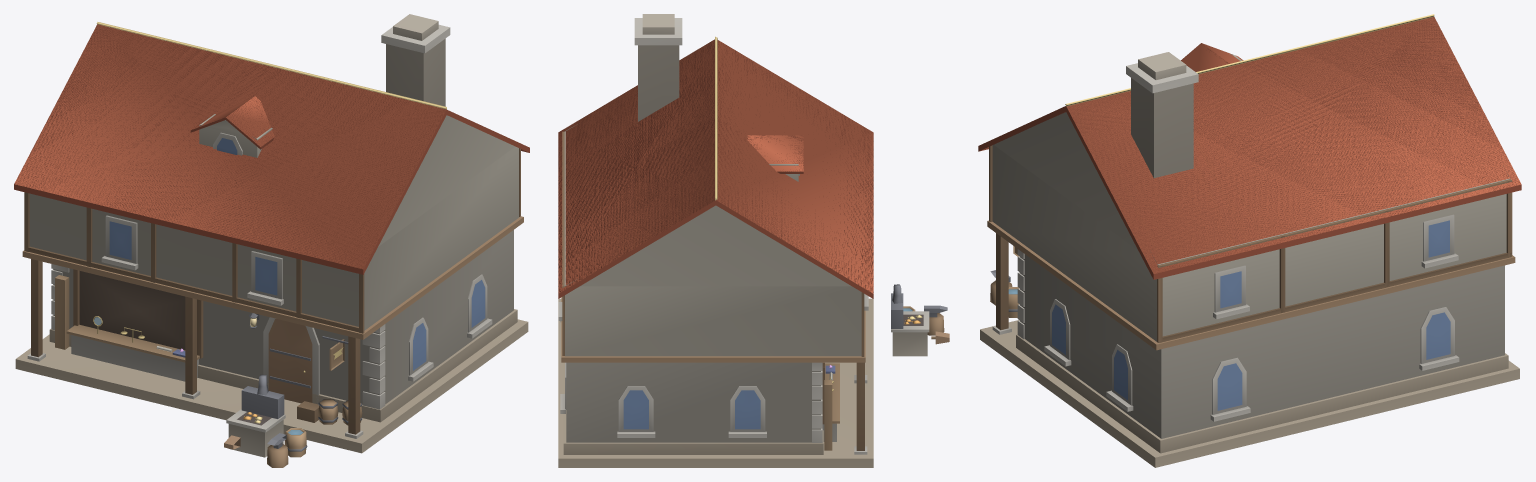
The model's file is smith_lite.glb.
3 renders of one model, left to right at view 1: azimuth 30°, elevation 25°; view 2: azimuth 150°, elevation 25°; view 3: azimuth 270°, elevation 25°, orthographic. The views are drawn at different scales.
Parts seen in each view (by area): view 1: Smith_stone, Smith_roof, Smith_props; view 2: Smith_stone, Smith_roof, Smith_props; view 3: Smith_stone, Smith_roof, Smith_props.
Boxes of the visible parts, bbox=[...] form: Smith_stone: bbox=[15, 14, 528, 457]; Smith_roof: bbox=[14, 24, 529, 274]; Smith_props: bbox=[22, 22, 523, 467]; Smith_stone: bbox=[558, 14, 929, 467]; Smith_roof: bbox=[558, 39, 873, 298]; Smith_props: bbox=[561, 36, 949, 450]; Smith_stone: bbox=[980, 52, 1519, 467]; Smith_roof: bbox=[978, 17, 1521, 279]; Smith_props: bbox=[987, 14, 1515, 410].
Size of the model in its own units: 14.57 by 10.9 by 15.34.
